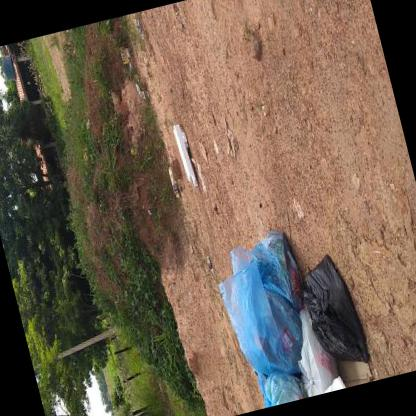lixo: (204, 214, 386, 412)
